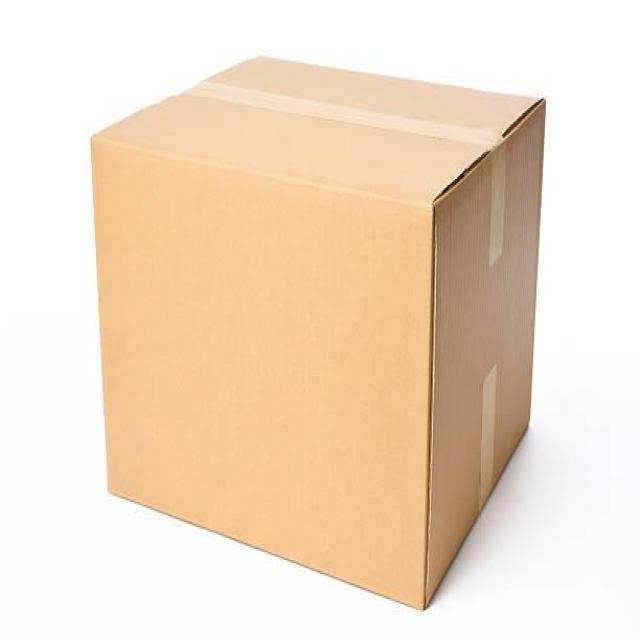box: (85, 48, 555, 615)
